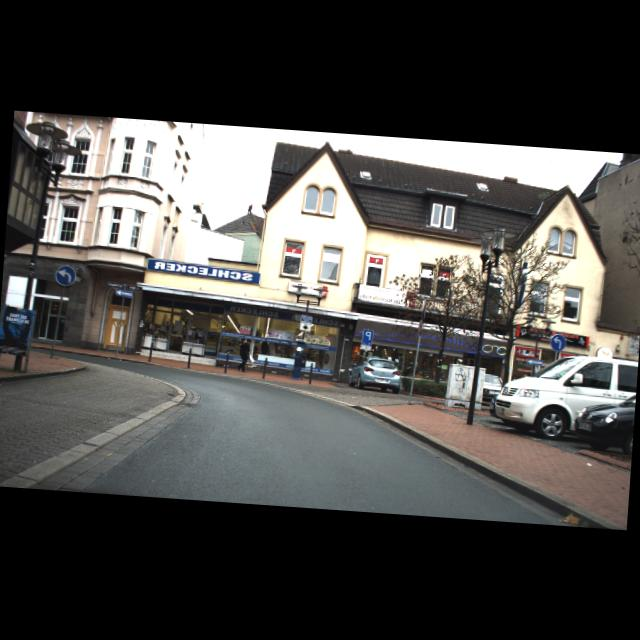mandatory: (55, 264, 76, 286), (551, 332, 567, 350)
